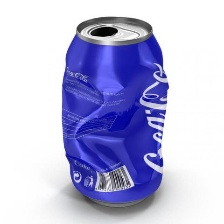can: (57, 14, 172, 213)
